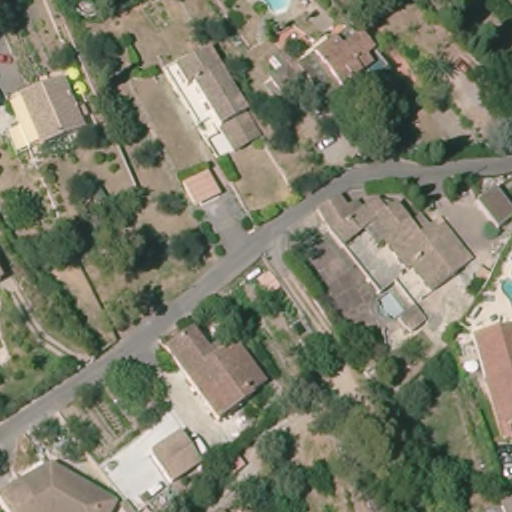pool: (263, 1, 294, 17)
